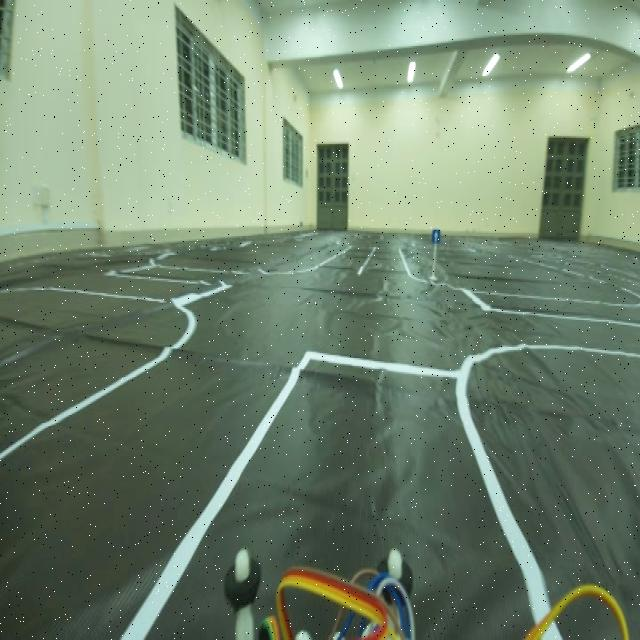onewayroad: (429, 216, 442, 258)
